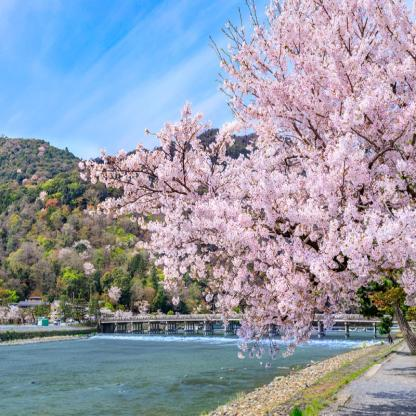Someiyoshino: (88, 3, 415, 327)
